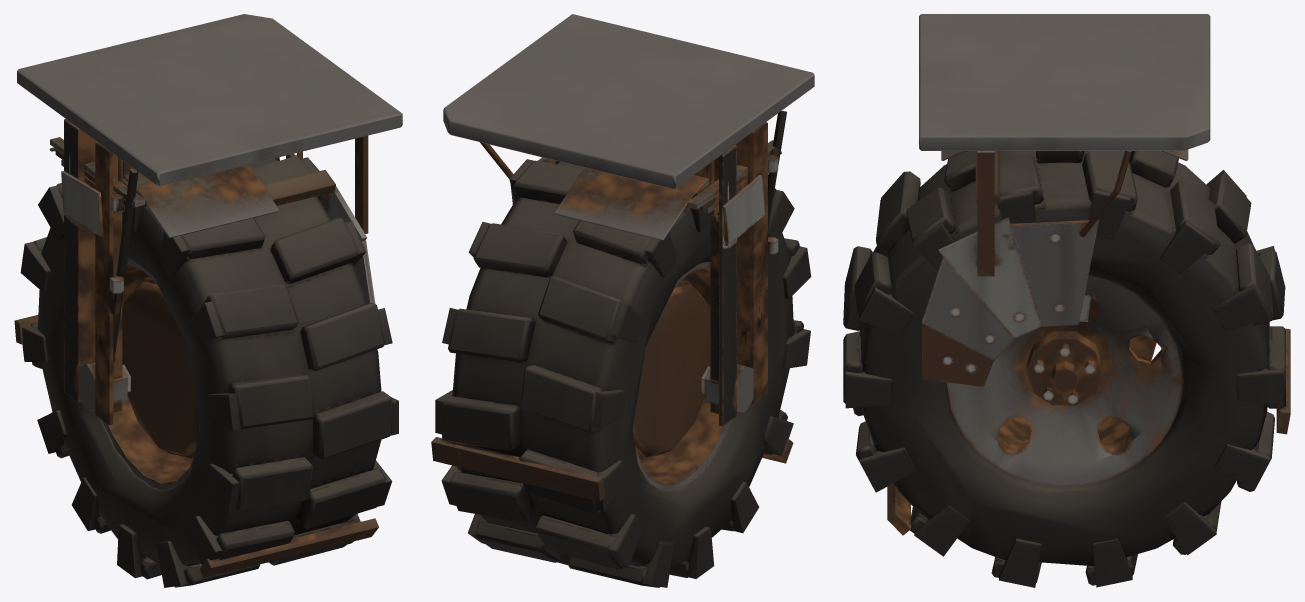
Rendered from R4M_Wheel_LOD1.glb.
The picture shows the model from 3 angles, left to right: view 1: azimuth 30°, elevation 25°; view 2: azimuth 150°, elevation 25°; view 3: azimuth 270°, elevation 25°; orthographic projection. The views are drawn at different scales.
Parts seen in each view (by area): view 1: R4M_Wheel_LOD1; view 2: R4M_Wheel_LOD1; view 3: R4M_Wheel_LOD1.
Part boxes in pixels (x1,y1,x2,y2): R4M_Wheel_LOD1: (14,14,402,587); R4M_Wheel_LOD1: (431,14,814,587); R4M_Wheel_LOD1: (843,14,1290,587).
Size of the model in its own units: 0.5064 by 0.9001 by 0.7682.
Materials: 1 (1 with a texture image).
